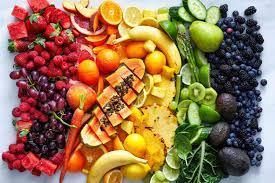lemon: (124, 134, 146, 157), (126, 163, 151, 180)
